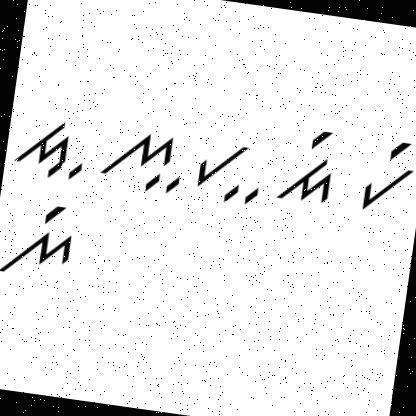dah: (10, 110, 91, 186)
dang: (274, 122, 346, 216)
nah: (92, 120, 186, 204)
nang: (0, 195, 82, 287)
pah: (192, 132, 273, 209)
pang: (355, 131, 416, 221)
